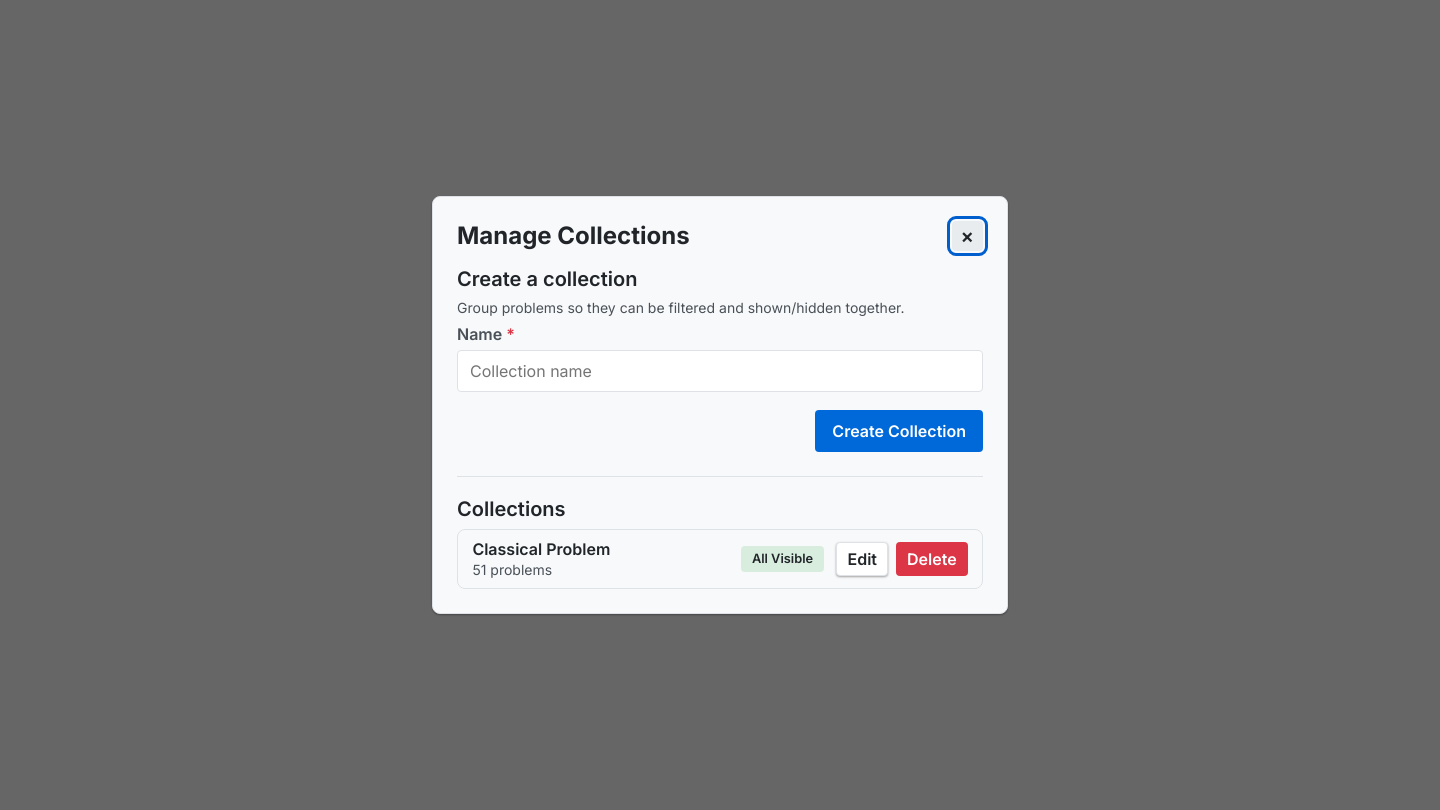
Test: CollectionsDialog › edit › cancel returns to create mode with a cleared form
The width and height of the screenshot is (1440, 810).
Click the button "Edit" at (862, 559), box [836, 542, 888, 576]
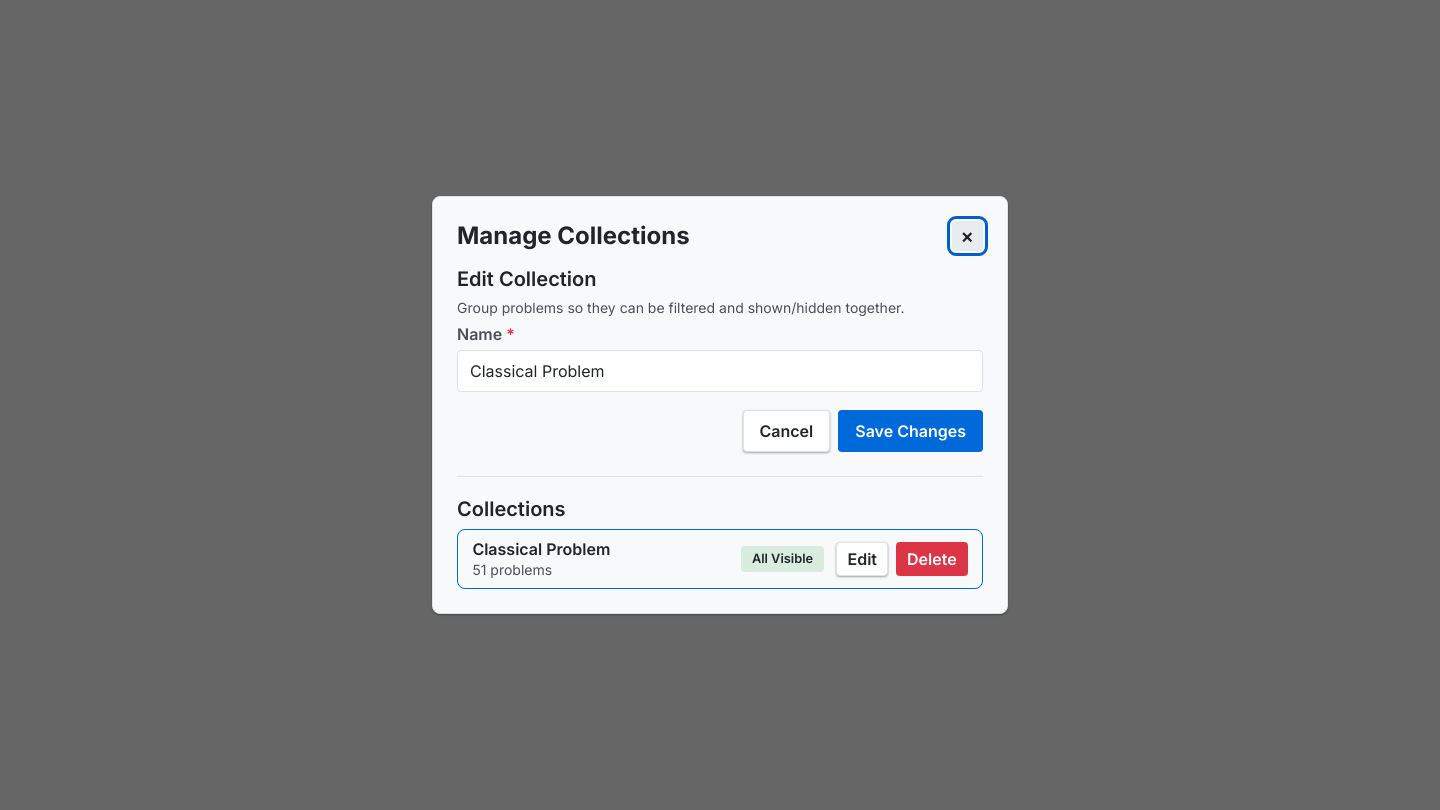
Replace the text in the field labelled "Name" with "Draft Name" at (720, 371), box [457, 350, 983, 392]
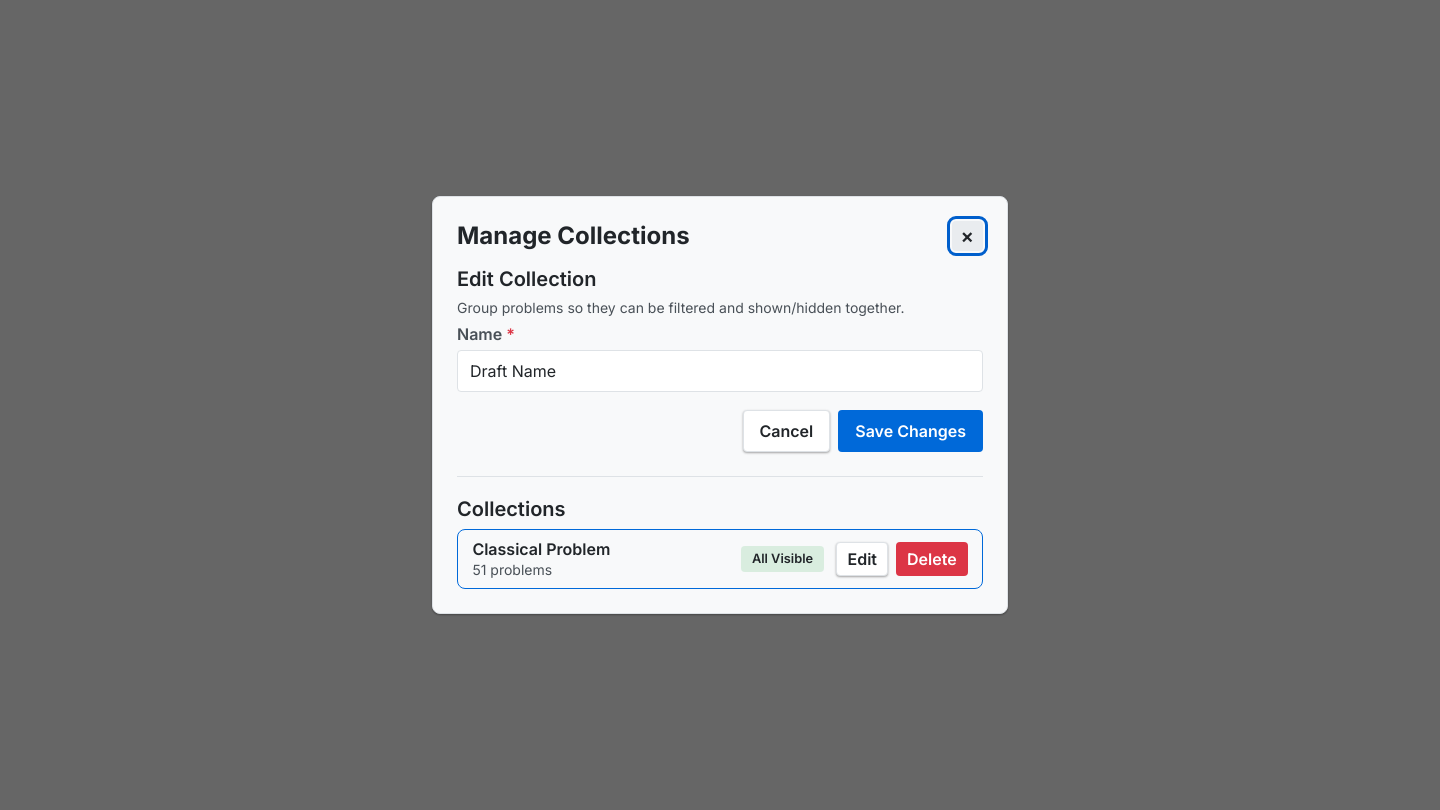
Click the button "Cancel" at (786, 430), box [742, 410, 830, 452]
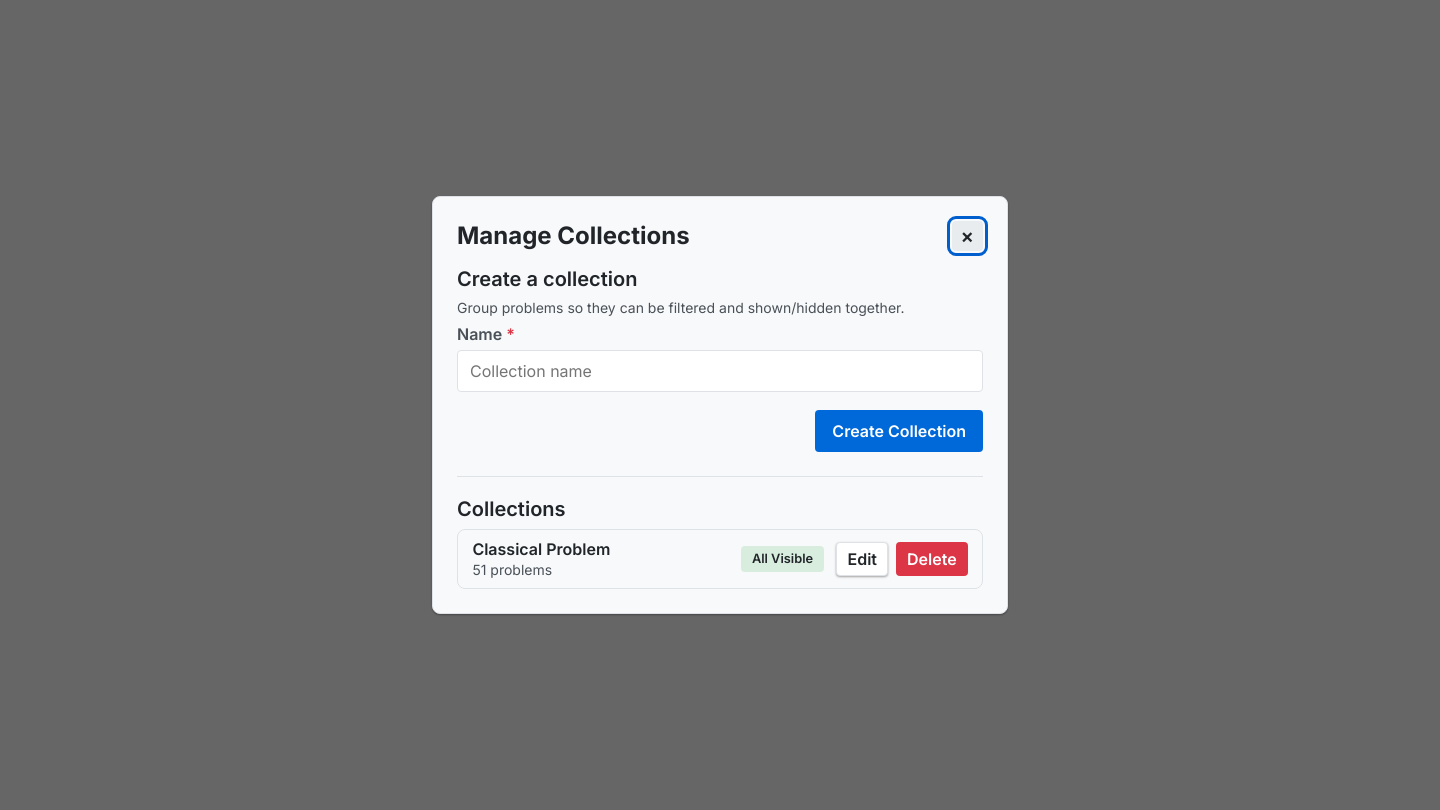
Check: the heading "Create a collection" is shown, box [457, 267, 638, 291]
Check: the heading "Edit Collection" is gone
Check: the button "Create Collection" is shown, box [815, 410, 983, 452]
